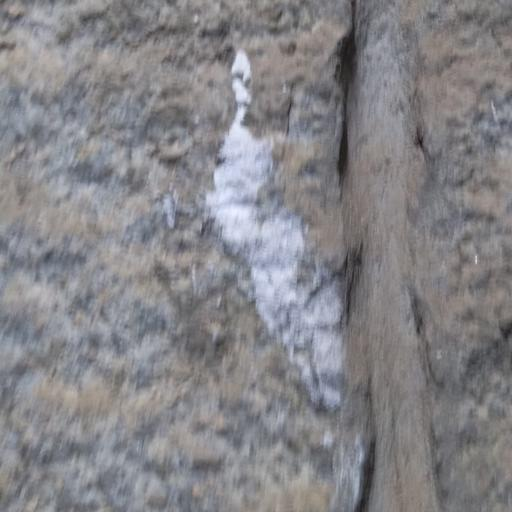stain: (174, 26, 371, 501)
